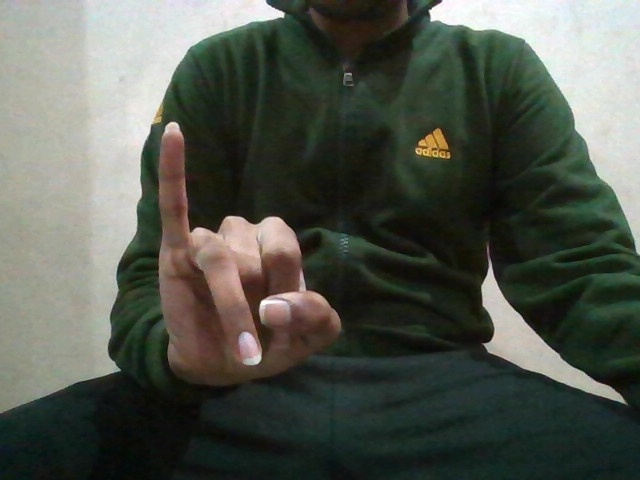I: (155, 115, 345, 382)
